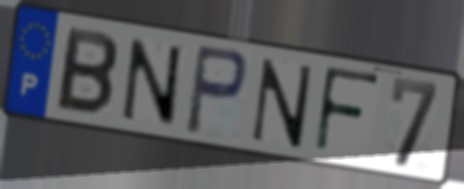7: (387, 74, 443, 170)
B: (52, 24, 122, 120)
F: (311, 63, 383, 158)
N: (247, 55, 317, 151), (120, 35, 184, 131)
P: (182, 41, 250, 139)
